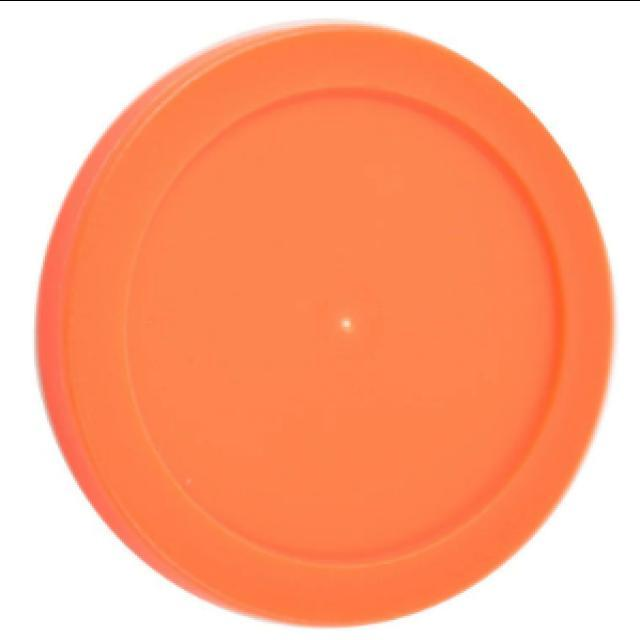chip: (34, 25, 617, 628)
